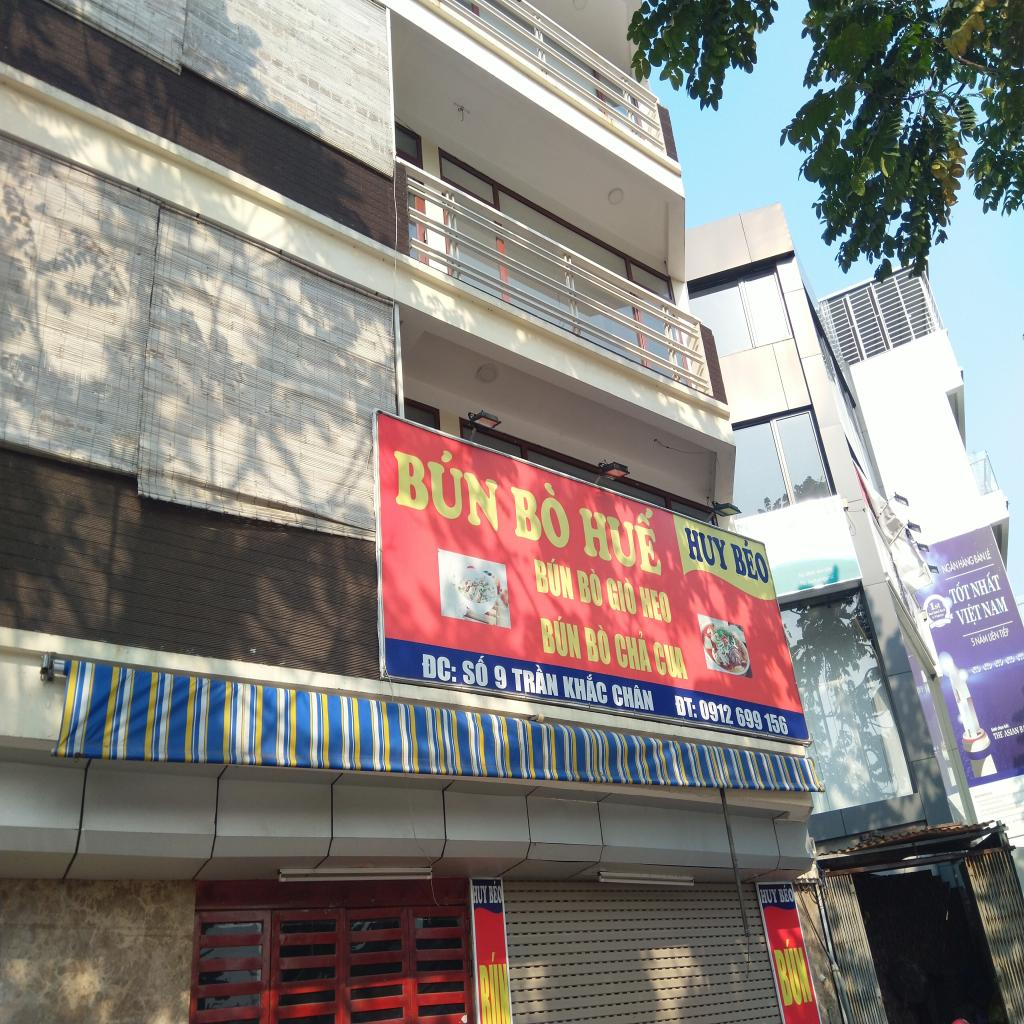text: (388, 433, 502, 538), (575, 488, 667, 584), (506, 465, 575, 558), (696, 696, 792, 738), (769, 932, 817, 1013), (682, 523, 730, 577), (530, 550, 577, 604), (478, 950, 512, 1023), (536, 612, 584, 662), (729, 534, 772, 588), (612, 625, 656, 677), (510, 658, 560, 702), (561, 668, 610, 709), (610, 676, 658, 714), (636, 581, 675, 627), (604, 569, 638, 620), (650, 642, 692, 682), (419, 649, 460, 689), (574, 561, 606, 612), (582, 619, 613, 668), (968, 568, 1004, 601), (461, 652, 490, 691), (953, 599, 985, 631), (671, 690, 699, 722), (980, 594, 1010, 622), (946, 578, 972, 606), (491, 661, 509, 695), (758, 886, 779, 907), (472, 882, 489, 906), (778, 883, 796, 905), (805, 564, 833, 578), (488, 880, 502, 906), (807, 573, 835, 586), (957, 552, 976, 570), (940, 559, 960, 576), (986, 627, 1001, 643), (1003, 725, 1020, 739), (972, 548, 986, 564), (974, 632, 990, 646), (998, 624, 1012, 640), (928, 599, 942, 612), (991, 729, 1005, 741), (983, 546, 993, 561), (996, 723, 1005, 732), (798, 570, 806, 580), (800, 578, 808, 588), (935, 612, 945, 620), (970, 636, 976, 648), (971, 664, 980, 672), (1006, 654, 1014, 663), (1016, 651, 1024, 659), (1003, 722, 1011, 730), (994, 658, 1003, 665), (983, 661, 991, 668), (990, 726, 998, 733), (933, 608, 941, 614), (940, 606, 946, 614), (927, 611, 934, 617), (932, 615, 936, 620)
